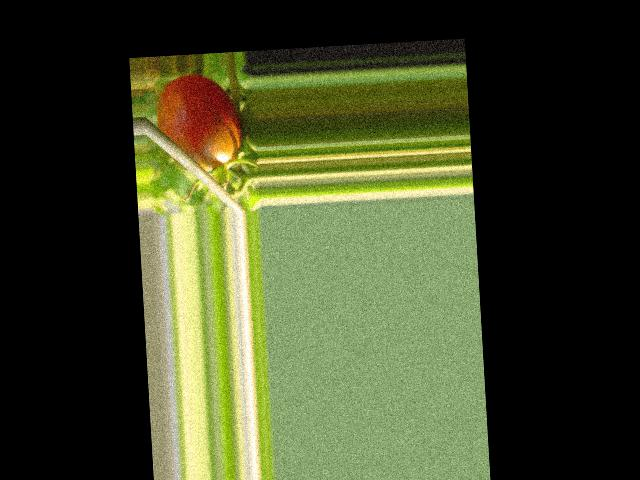tomato: (155, 72, 242, 174)
